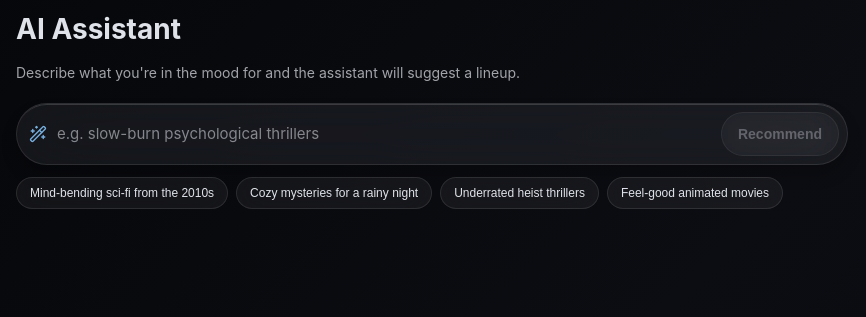
Test case: Assistant - server mode routing › recommendation card omits the year when null
Type "x" into the field named "Describe what to watch" at (384, 134), box 55,117 -> 713,151
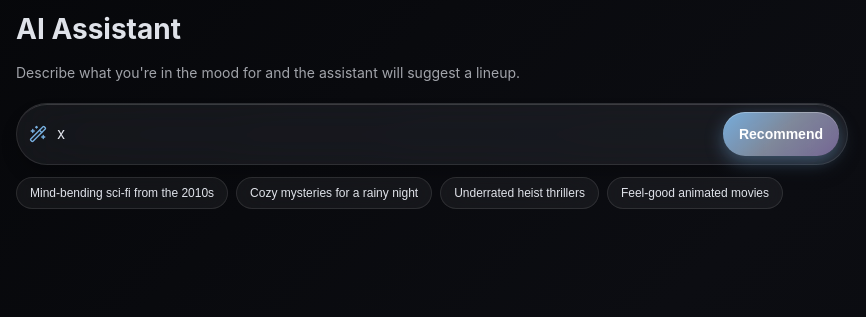
Click the button "Recommend" at (781, 134), box 723,112 -> 839,156
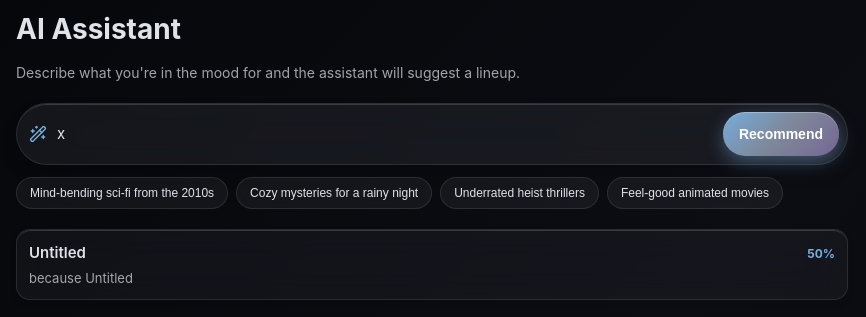
Check: the button "Untitled 50% because Untitled" is shown, box 16,229 -> 848,300
Check: the text "50%" is shown, box 807,245 -> 835,263
